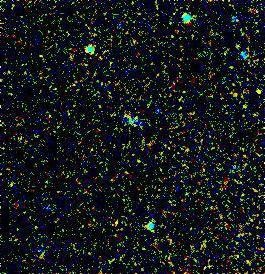star: (243, 78, 265, 108)
